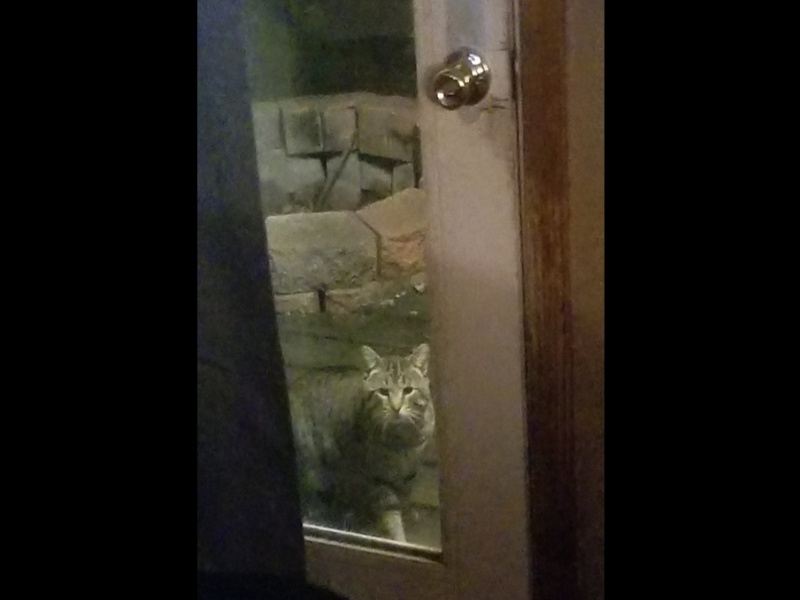cat: (286, 340, 434, 545)
